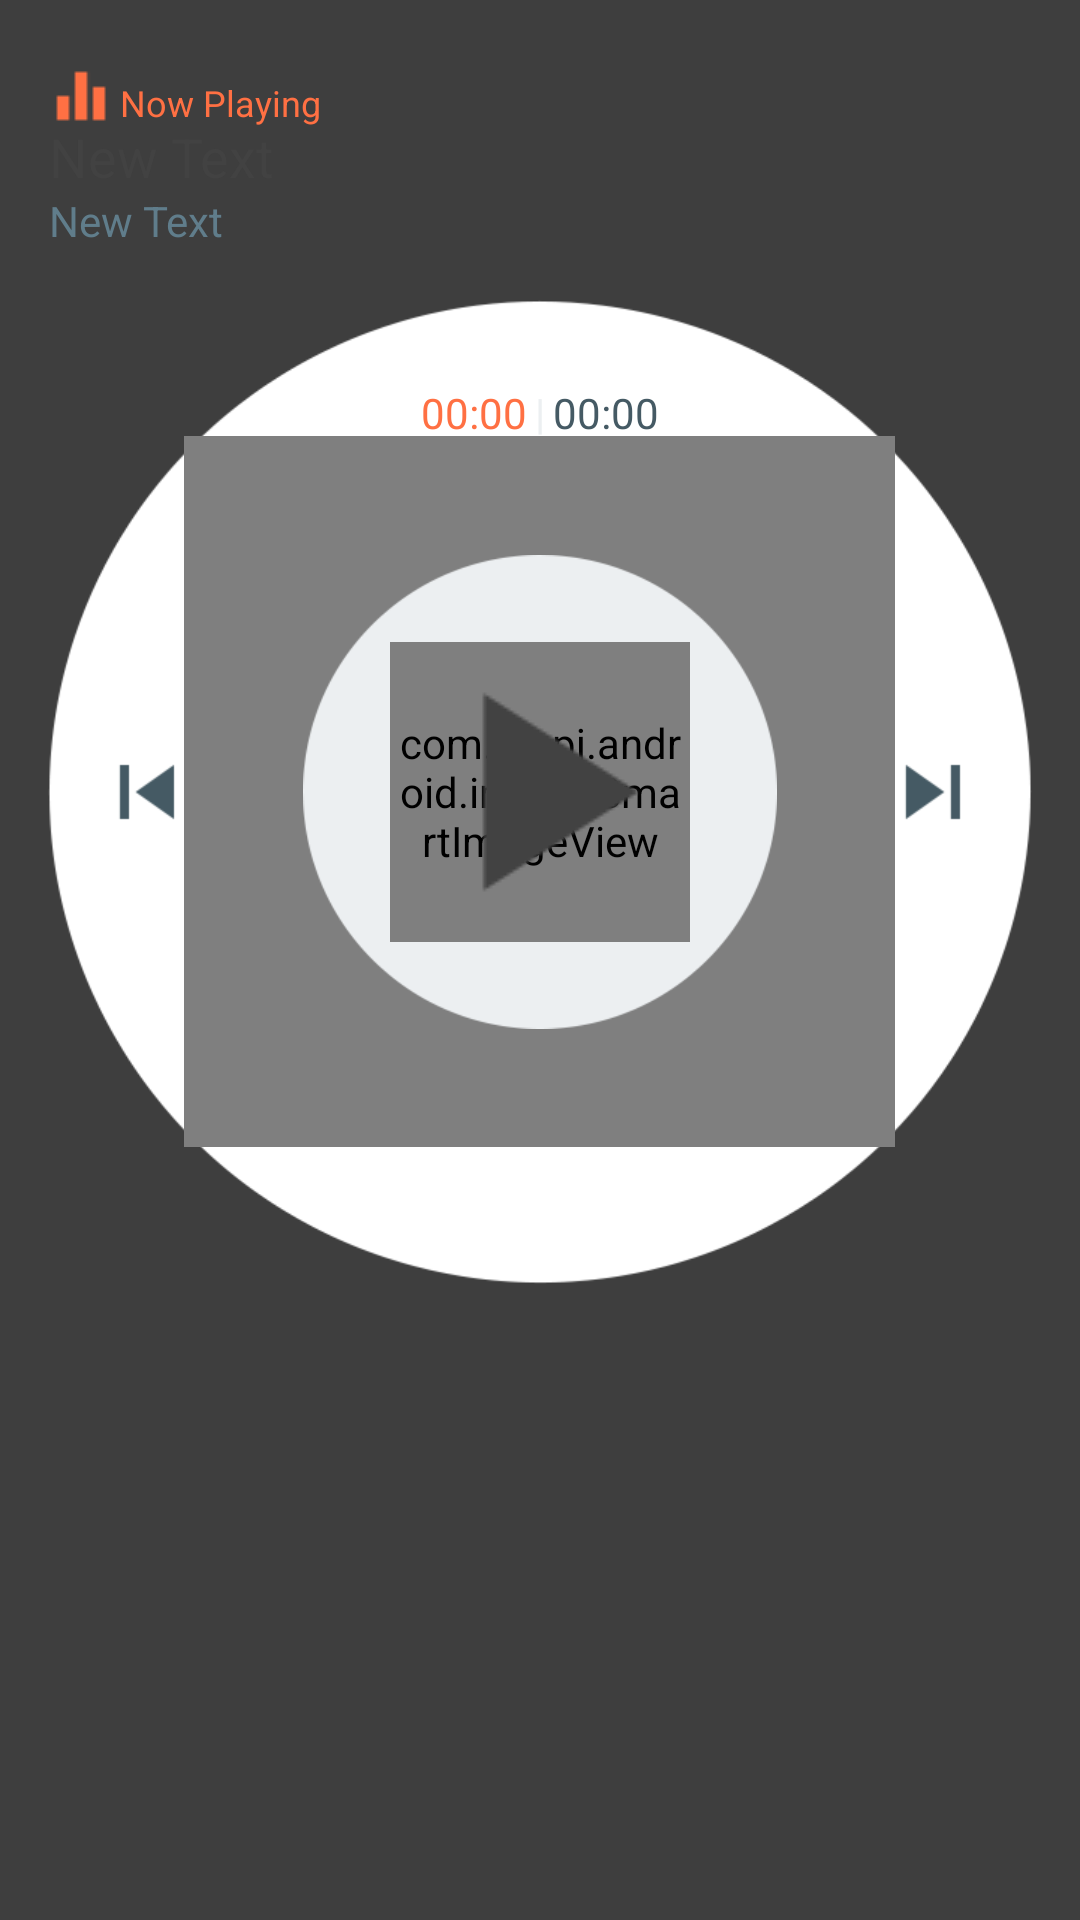

Icon click points for this 1080w x 1920h phone screenshot, format (x,y):
skip next: (933,792)
skip previous: (160,792)
